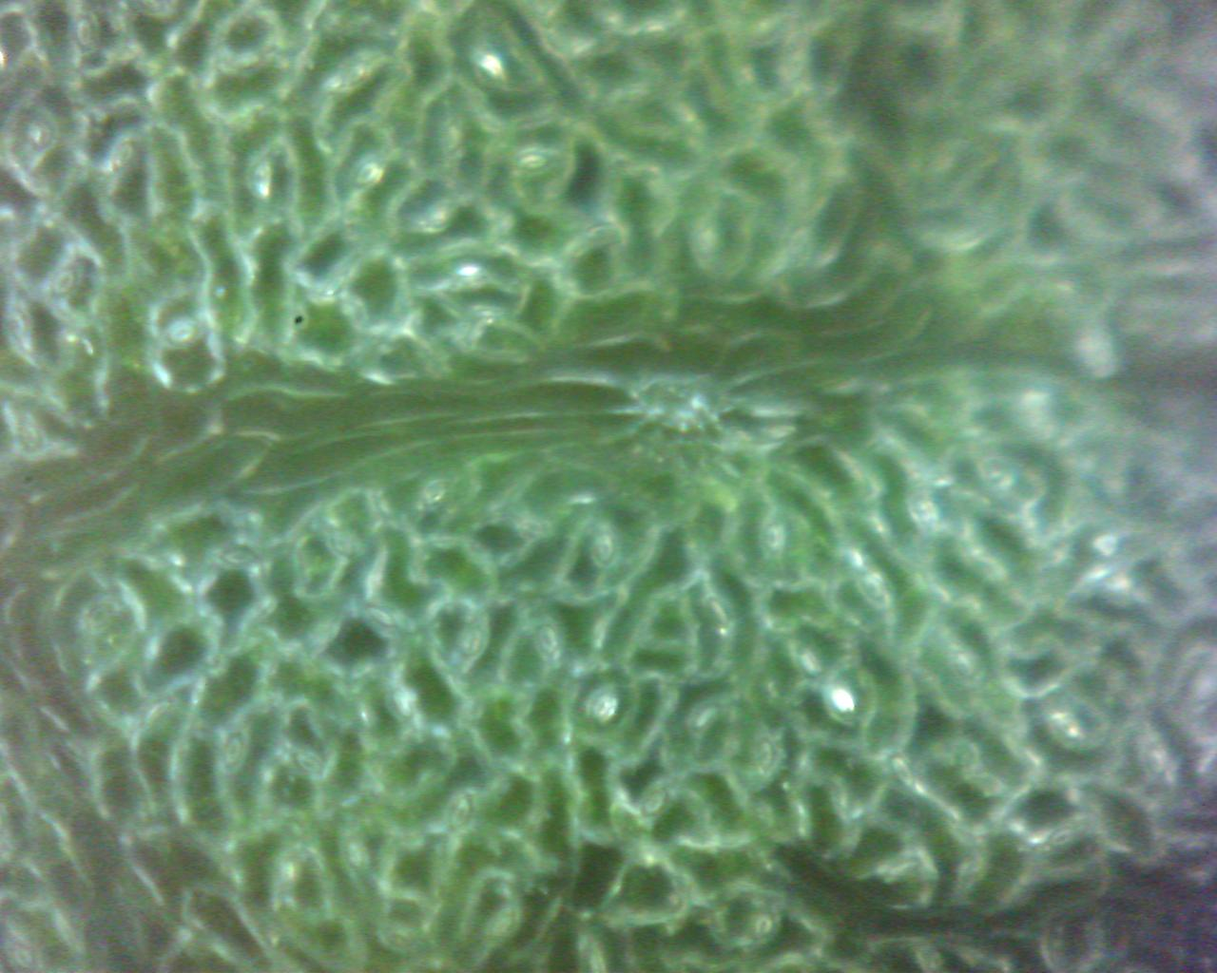stomata: (218, 545, 261, 570), (73, 15, 101, 52), (29, 118, 57, 152), (164, 322, 202, 347), (247, 161, 271, 198), (224, 732, 247, 770), (535, 624, 560, 658), (519, 152, 555, 174), (443, 121, 466, 155), (892, 754, 913, 790), (860, 571, 885, 601), (52, 268, 77, 298), (591, 690, 615, 721), (756, 738, 777, 773), (145, 699, 171, 727), (595, 531, 615, 567), (17, 424, 42, 452), (453, 793, 472, 829), (884, 858, 918, 878), (229, 52, 263, 72), (423, 482, 449, 508), (356, 160, 379, 189), (763, 522, 782, 556), (491, 911, 514, 939), (913, 495, 934, 525), (467, 626, 488, 656), (1053, 716, 1081, 738), (644, 789, 666, 817), (520, 519, 551, 538), (710, 597, 729, 628), (392, 688, 412, 717), (694, 705, 717, 730), (342, 63, 368, 85), (115, 142, 136, 169), (1047, 828, 1075, 848), (1148, 745, 1166, 776), (429, 205, 453, 228), (799, 648, 818, 677), (296, 754, 323, 773), (89, 605, 110, 629), (347, 840, 365, 868), (369, 607, 397, 625), (323, 274, 347, 295), (954, 652, 974, 677), (332, 535, 353, 558), (753, 914, 772, 939)
